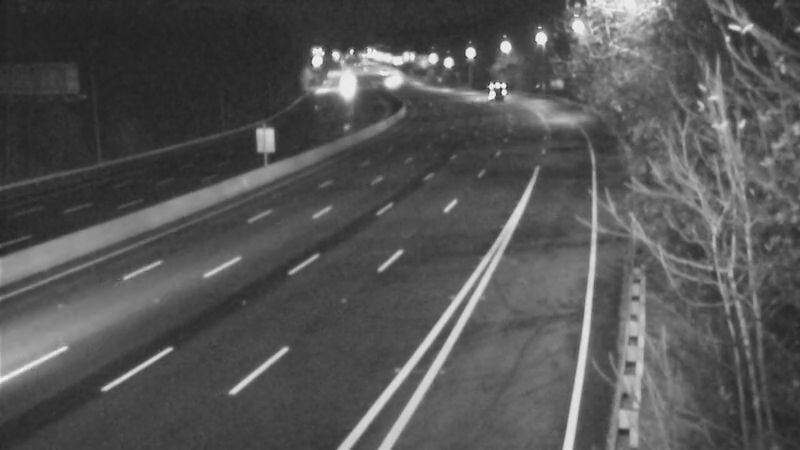vehicle: (361, 58, 411, 108), (476, 62, 526, 112), (322, 59, 372, 109)
